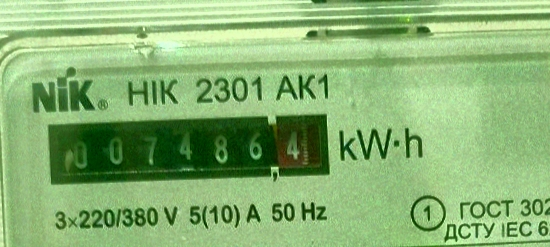0: (69, 136, 90, 171), (106, 133, 125, 167)
4: (174, 127, 194, 163), (283, 128, 301, 162)
6: (246, 129, 266, 162)
7: (138, 132, 162, 166)
8: (212, 132, 230, 167)
screen: (38, 101, 339, 197)
